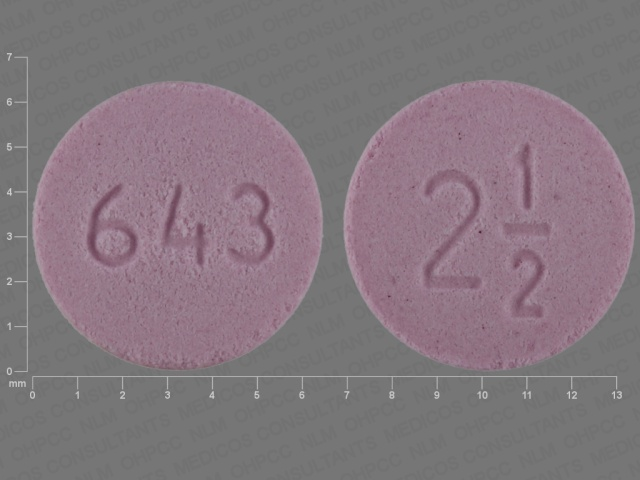2: (414, 162, 491, 302)
2/1: (498, 137, 559, 331)
3: (222, 176, 282, 273)
4: (157, 181, 208, 272)
6: (87, 179, 141, 275)
